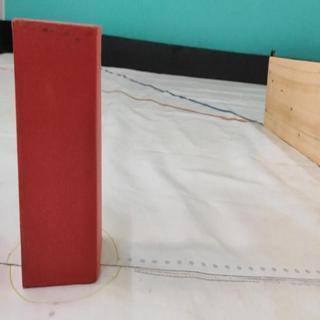redbox: (10, 17, 101, 290)
